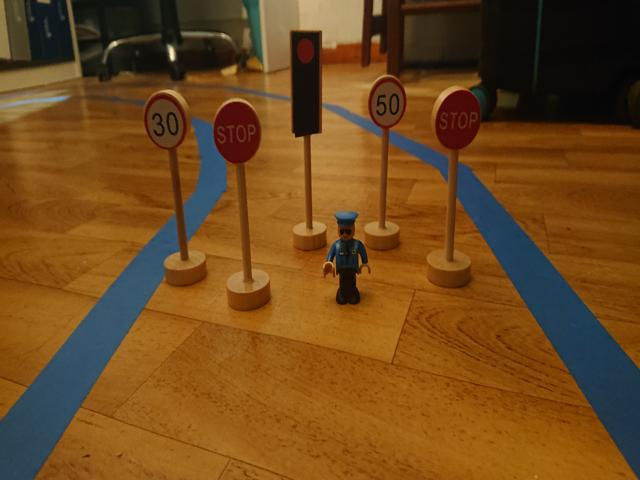30 speed sign: (141, 92, 189, 149)
50 speed sign: (366, 78, 407, 129)
person: (322, 211, 372, 309)
red light: (292, 33, 321, 125)
stop sign: (431, 90, 481, 150), (213, 103, 261, 163)
